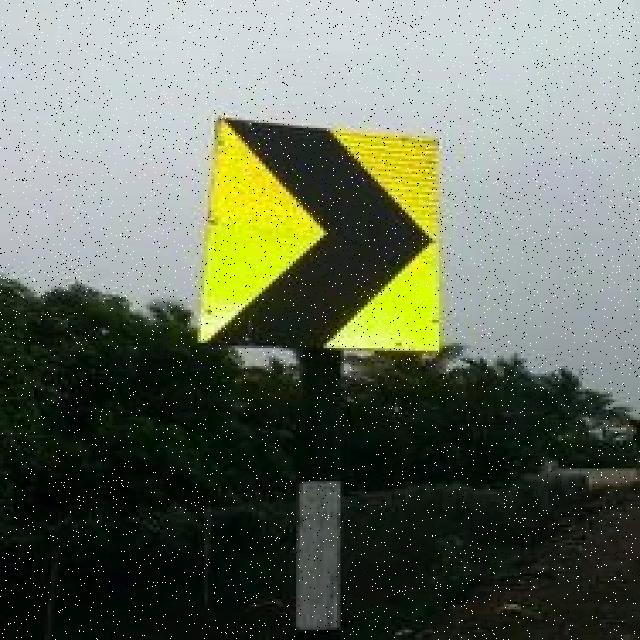chevron_right: (198, 117, 451, 338)
